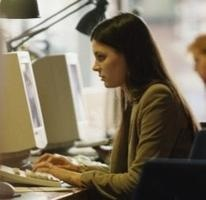person without safety: (76, 9, 195, 168)
